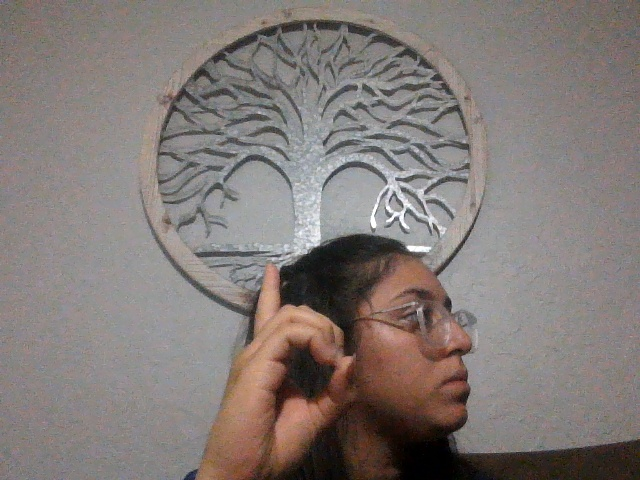D: (193, 258, 374, 480)
